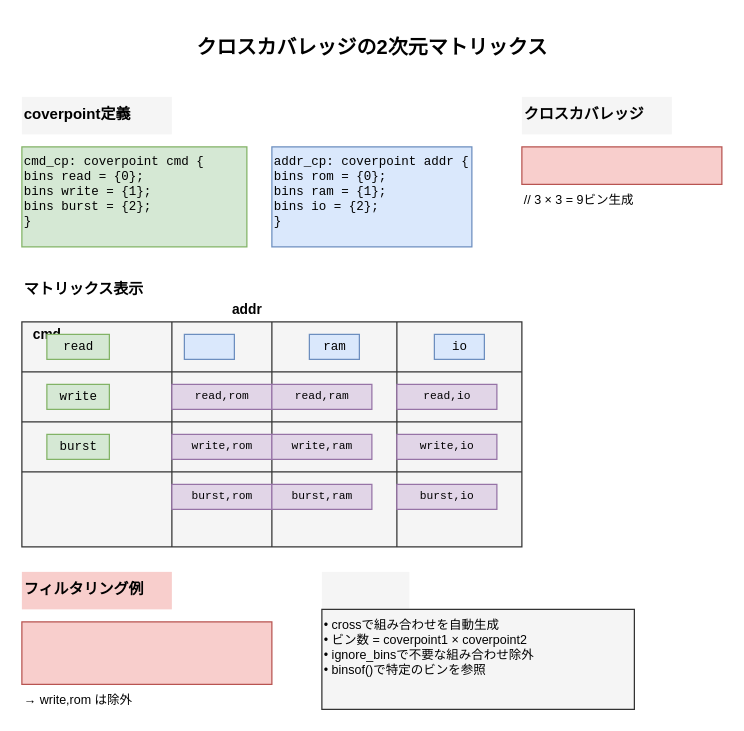
The diagram is 744 pixels wide and 731 high, and some of its shapes have lost their labels. Here are the shapes that lost their labels. From the top down, the centre of each, then its label:
At (x=621, y=165): "cross cmd_cp, addr_cp;".
At (x=208, y=346): "rom".
At (x=365, y=590): "ポイント".
At (x=146, y=652): "ignore_bins no_rom_write = binsof(cmd_cp.write) && binsof(addr_cp.rom);".
